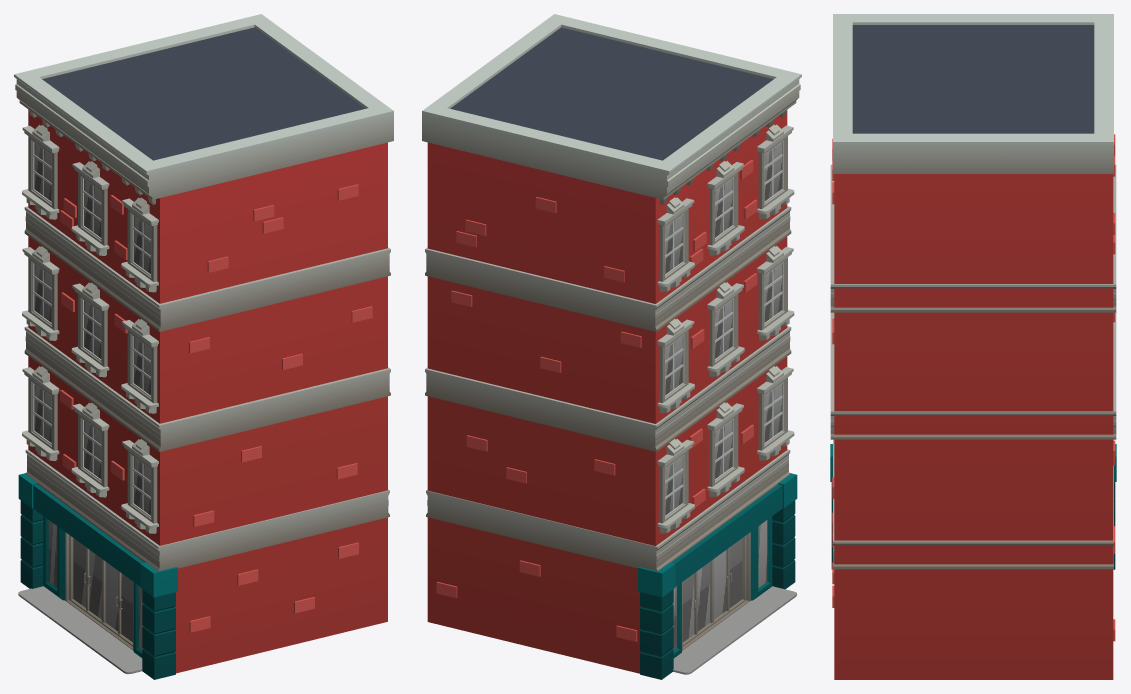
Rendered from Building_21_2_A.fbx.
3 views of the same model, side by side, from view 1: azimuth 30°, elevation 25°; view 2: azimuth 150°, elevation 25°; view 3: azimuth 270°, elevation 25° (orthographic). The views are drawn at different scales.
Visible parts, largest first — view 1: Building_21_2_A; view 2: Building_21_2_A; view 3: Building_21_2_A.
Part boxes in pixels (x1,y1,x2,y2): Building_21_2_A: (14, 14, 393, 679); Building_21_2_A: (422, 14, 801, 679); Building_21_2_A: (830, 14, 1116, 679).
Bounding box in the file's own units: 779 × 1485 × 713.
